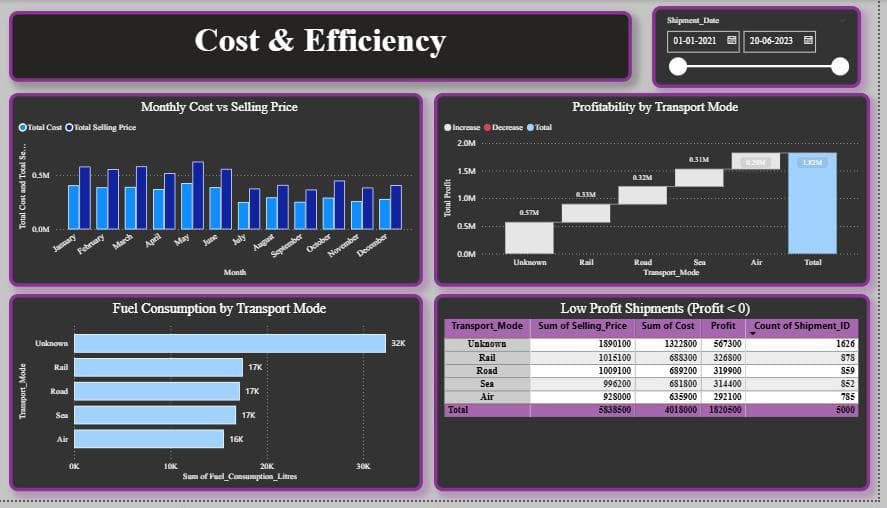

The page's visual inventory and layout, read from the dashboard file:
{"tool":"powerbi","page":{"name":"Dashboard 4 – Cost & Efficiency","canvas":[1280,720],"ordinal":3},"visuals":[{"type":"clusteredColumnChart","title":"Monthly Cost vs Selling Price","fields":{"Y":["Delivery_Status =  Delayed.Total Cost","Delivery_Status =  Delayed.Total Selling Price"],"Category":["Logistics_Cleaned_Dataset.Delivery_Date.Variation.Date Hierarchy.Month"]},"box":[27.4,133.9,596.2,279.4],"z":0},{"type":"barChart","title":"Fuel Consumption by Transport Mode","fields":{"Category":["Logistics_Cleaned_Dataset.Transport_Mode"],"Y":["Sum(Logistics_Cleaned_Dataset.Fuel_Consumption_Litres)"]},"box":[27.4,433.4,596.2,273.6],"z":1000},{"type":"waterfallChart","title":"Profitability by Transport Mode","fields":{"Category":["Logistics_Cleaned_Dataset.Transport_Mode"],"Y":["Delivery_Status =  Delayed.Total Profit"]},"box":[639.4,133.9,627.8,279.4],"z":2000},{"type":"tableEx","title":"Low Profit Shipments (Profit < 0)","fields":{"Values":["Logistics_Cleaned_Dataset.Transport_Mode","Sum(Logistics_Cleaned_Dataset.Selling_Price)","Sum(Logistics_Cleaned_Dataset.Cost)","Delivery_Status =  Delayed.Profit","CountNonNull(Logistics_Cleaned_Dataset.Shipment_ID)"]},"box":[639.4,433.4,627.8,273.6],"z":3000},{"type":"slicer","fields":{"Values":["Logistics_Cleaned_Dataset.Shipment_Date"]},"box":[953.3,8.6,301,118.1],"z":4000},{"type":"textbox","box":[27.4,15.8,897.1,102.2],"z":5000}]}

Visuals, with their boxes in screenshot pixels (x1, y1, x2, y2), scaled from the page's 1280x720 canvas onto the 887x508 screenshot:
"Monthly Cost vs Selling Price" clusteredColumnChart: <bbox>19, 94, 432, 292</bbox>
"Fuel Consumption by Transport Mode" barChart: <bbox>19, 306, 432, 499</bbox>
"Profitability by Transport Mode" waterfallChart: <bbox>443, 94, 878, 292</bbox>
"Low Profit Shipments (Profit < 0)" tableEx: <bbox>443, 306, 878, 499</bbox>
slicer - Logistics_Cleaned_Dataset.Shipment_Date: <bbox>661, 6, 869, 89</bbox>
textbox: <bbox>19, 11, 641, 83</bbox>
